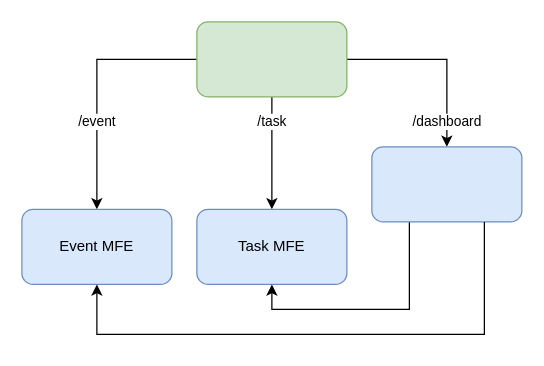
Image size: 544x366. Some labels were removed from this diagram. The shapes that lost their labels are listed below. From the top down, each one's box as (x1, y1, x2, y2) in pixels, then its label:
(196, 21, 347, 97): Portal
(371, 146, 522, 222): Dashboard MFE
